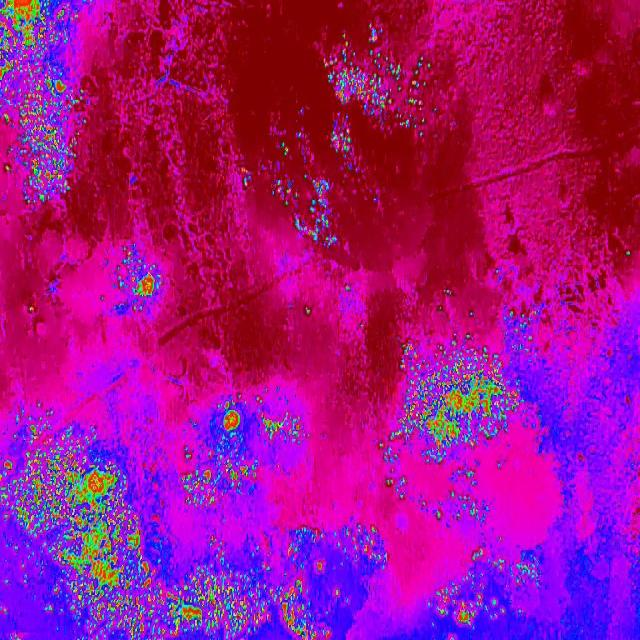fire: (1, 386, 318, 640), (0, 0, 91, 214), (380, 339, 531, 461), (424, 539, 550, 640), (322, 46, 446, 144), (265, 125, 363, 246), (318, 520, 388, 640), (104, 248, 166, 317), (424, 470, 492, 526)
